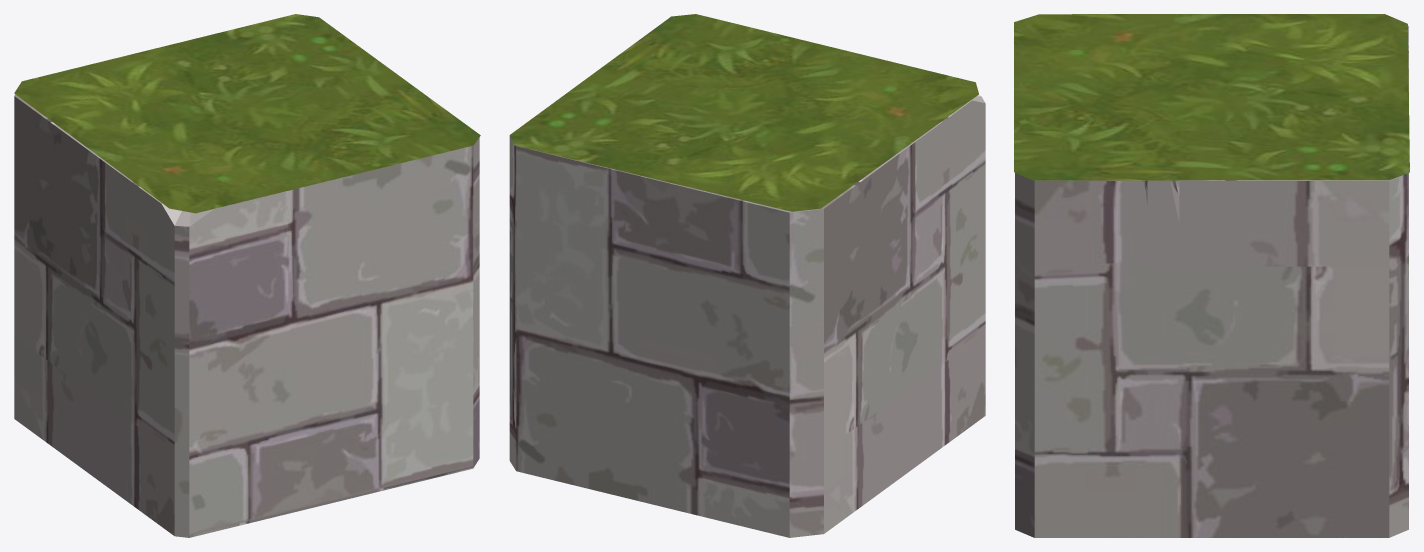
File: GodotBlock.glb
3 renders of one model, left to right at view 1: azimuth 30°, elevation 25°; view 2: azimuth 150°, elevation 25°; view 3: azimuth 270°, elevation 25°, orthographic. The views are drawn at different scales.
Parts seen in each view (by area): view 1: CubeStone, Grass; view 2: CubeStone, Grass; view 3: CubeStone, Grass.
Boxes of the visible parts, x1,y1,x2,y2 form: CubeStone: (14,94,479,537); Grass: (14,14,480,213); CubeStone: (509,95,985,537); Grass: (509,14,978,211); CubeStone: (1015,26,1408,537); Grass: (1014,14,1409,180).
Bounding box in the file's own units: 2 × 2.01 × 2.01.
Materials: 2 (2 with a texture image).
